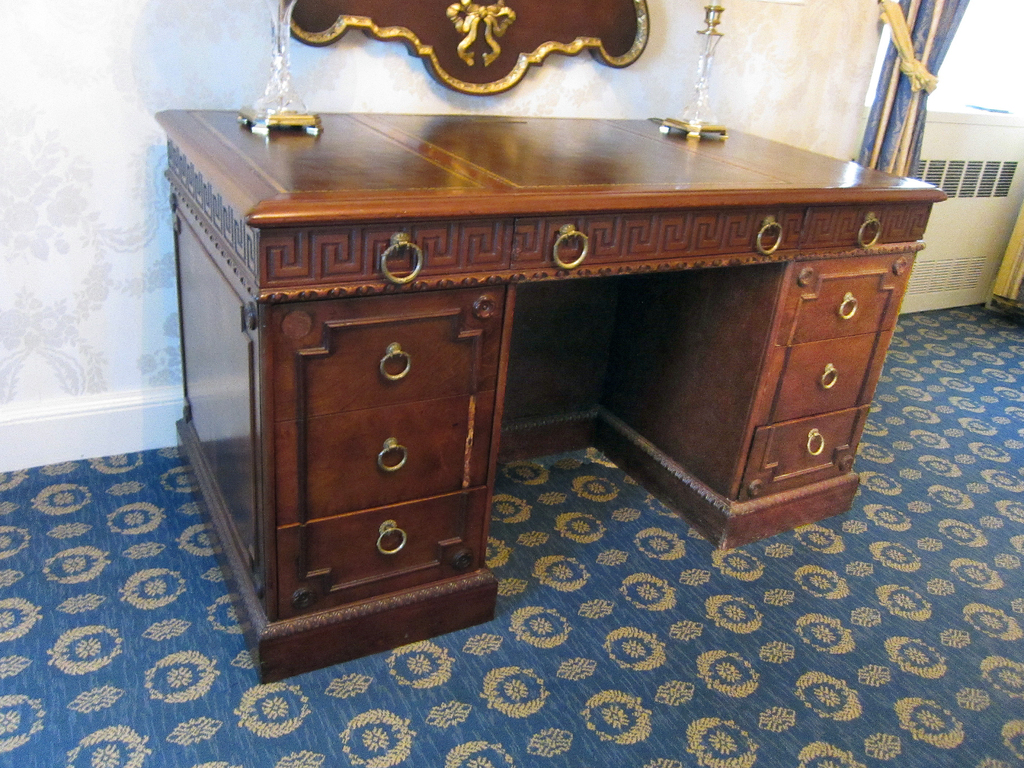cabinet door: (274, 301, 494, 400), (286, 403, 490, 494), (519, 211, 791, 265), (294, 503, 482, 581), (282, 221, 506, 273), (787, 260, 892, 342), (769, 345, 876, 413), (803, 197, 919, 252), (748, 420, 856, 479)
handle: (376, 229, 423, 289), (374, 428, 410, 484), (374, 336, 411, 389), (553, 222, 586, 274), (375, 515, 409, 564), (749, 215, 786, 260), (833, 289, 861, 331), (856, 211, 882, 254), (819, 356, 839, 400), (807, 425, 827, 460)
